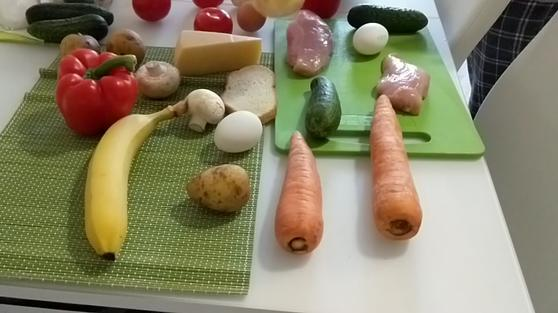banana: (82, 99, 185, 262)
carrot: (363, 93, 425, 238), (279, 131, 325, 255)
champignon: (182, 87, 225, 133), (140, 56, 181, 98)
cheese: (177, 24, 263, 76)
chicken_fillet: (375, 52, 431, 117), (285, 10, 336, 75)
cucumber: (342, 1, 430, 35), (302, 77, 344, 140), (42, 1, 115, 24), (47, 14, 109, 33)
egg: (213, 111, 262, 154), (351, 20, 391, 56), (236, 3, 267, 35)
pepper: (54, 48, 137, 133)
potato: (186, 163, 252, 212), (104, 24, 147, 63), (61, 33, 102, 55)
tomato: (190, 6, 236, 37)
white_bread: (225, 62, 278, 122)
